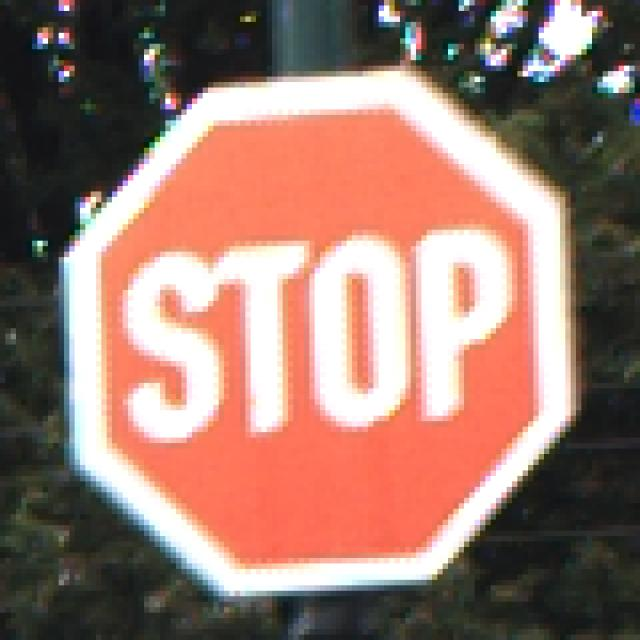STOP: (60, 61, 588, 586)
